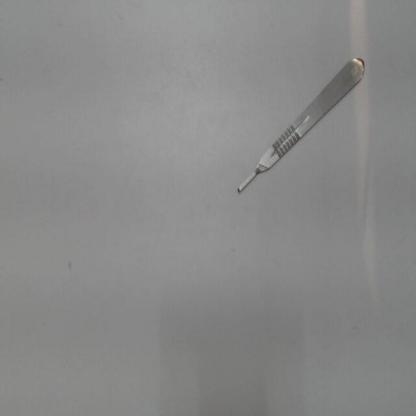No.3 BP Handle: (229, 46, 377, 204)
